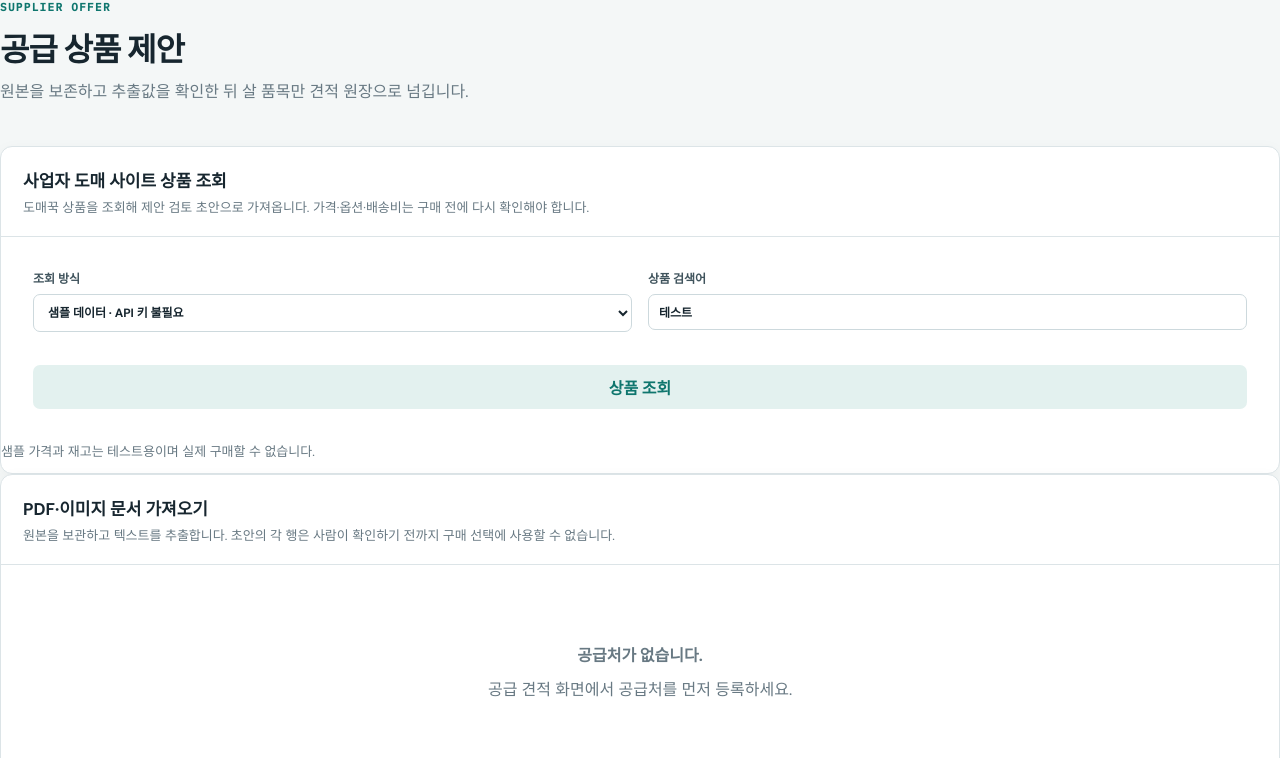
it: 도매 사이트 샘플 상품을 상세 확인 후 검토 초안으로 가져온다
This screenshot has width=1280, height=758.
Later steps or results of the test are not shown.
Click the button "상품 조회" at (640, 387), box [33,365,1247,409]
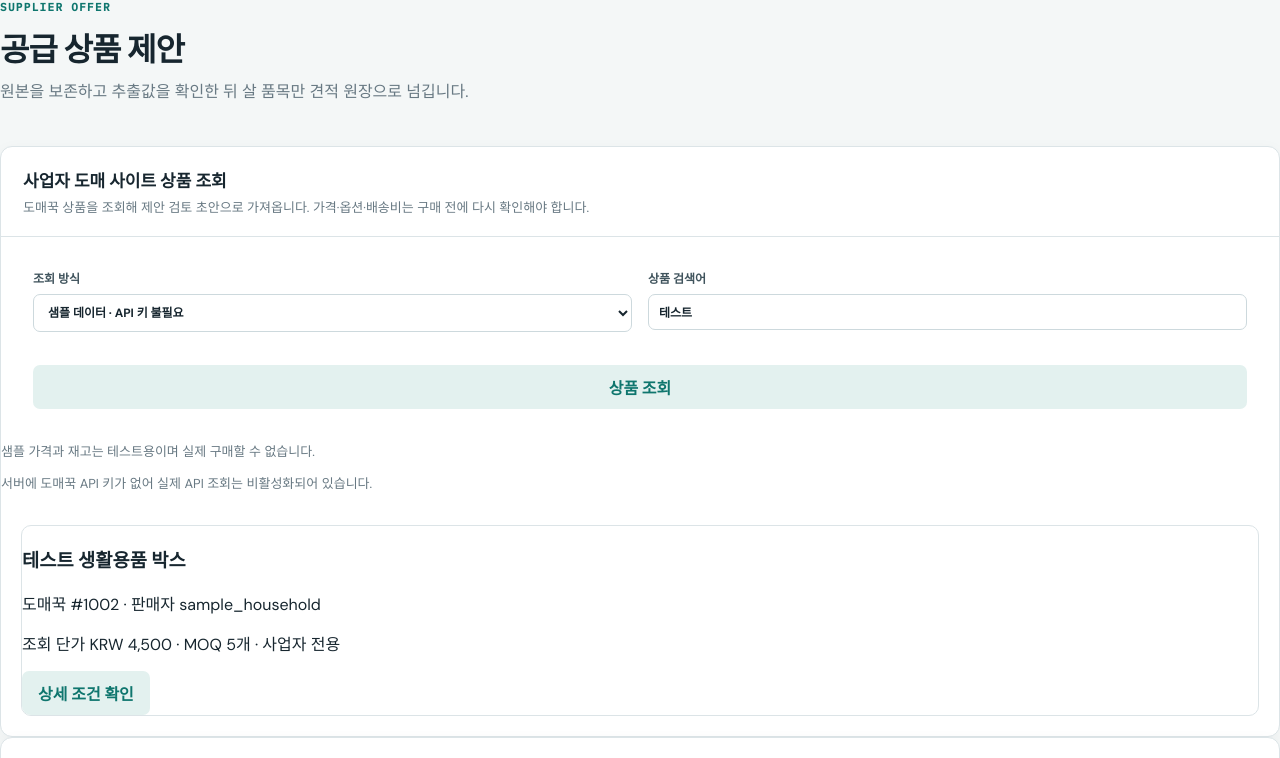
Click the button "상세 조건 확인" at (86, 693), box [22,671,150,715]
(page scrolled)
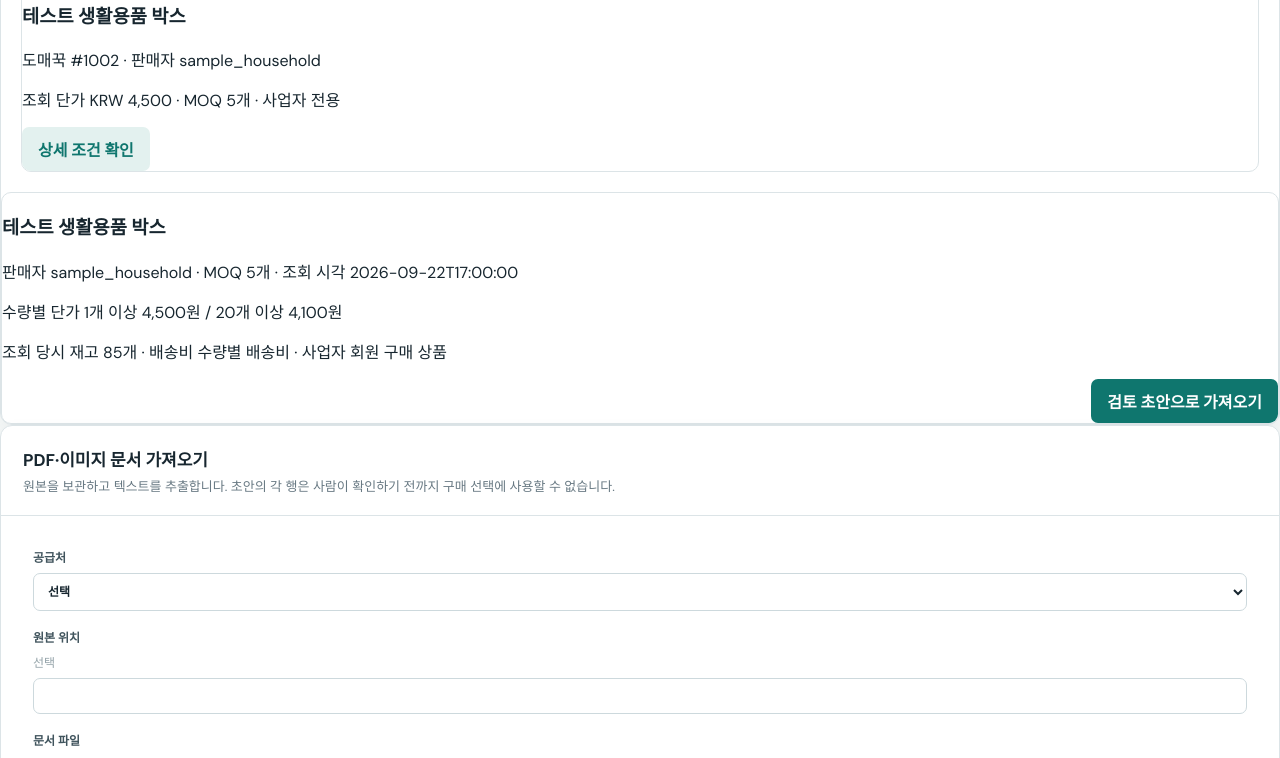
Now the text "수량별 단가 1개 이상 4,500원 / 20개 이상 4,100원" is shown, box [2,302,342,323]
